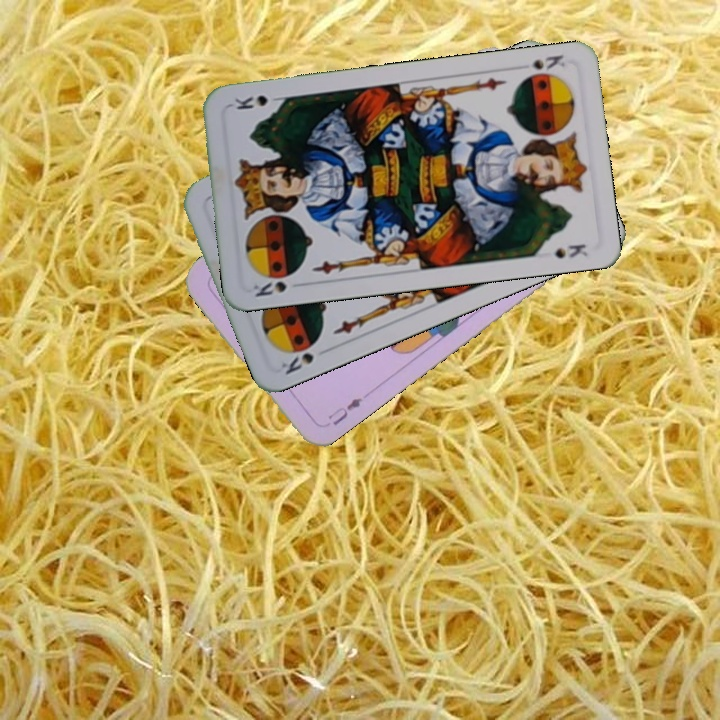EU: (324, 393, 365, 429)
SK: (513, 50, 567, 73), (277, 348, 317, 377), (249, 277, 290, 299)
